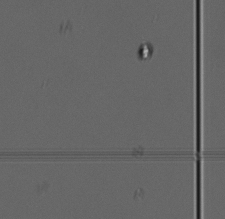Living Cell: (137, 43, 154, 61)
